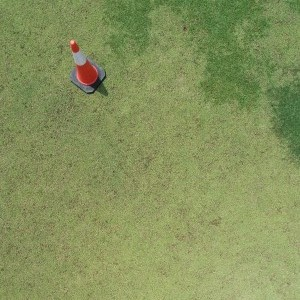traffic cone: (70, 40, 106, 94)
